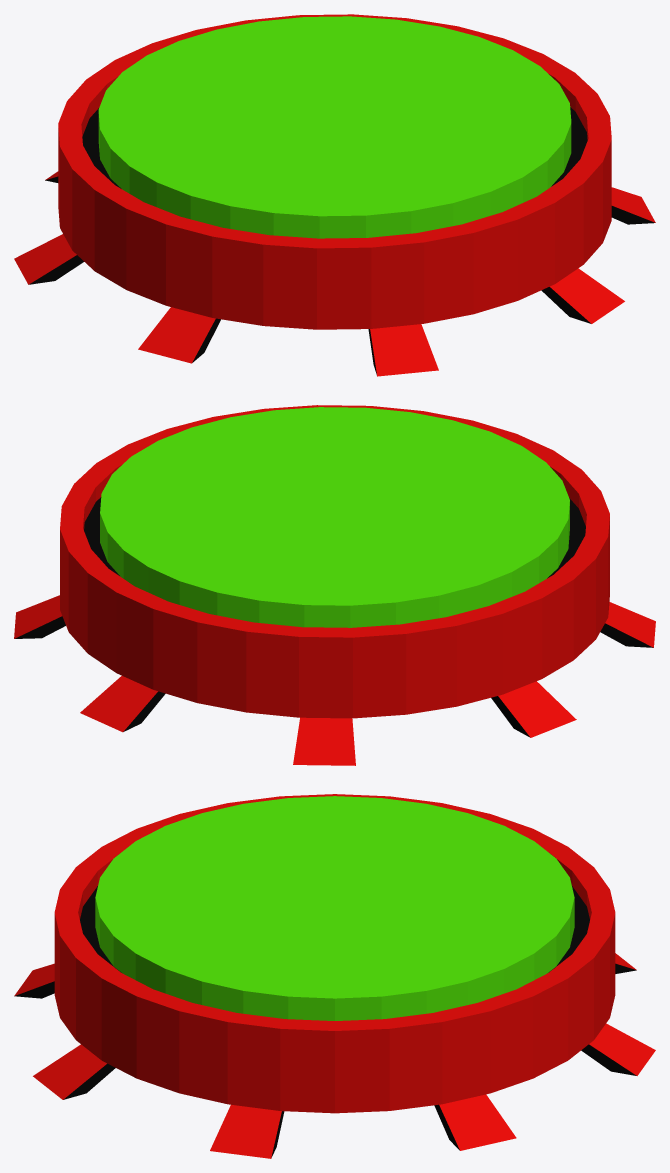
Rendered from JumpPad.fbx.
The picture shows the model from 3 angles, top to bottom: view 1: azimuth 30°, elevation 25°; view 2: azimuth 150°, elevation 25°; view 3: azimuth 270°, elevation 25°; orthographic projection.
Parts seen in each view (by area): view 1: Cylinder; view 2: Cylinder; view 3: Cylinder.
Part boxes in pixels (left/top/right/bottom): Cylinder: left=14, top=14, right=655, bottom=376; Cylinder: left=14, top=405, right=655, bottom=765; Cylinder: left=14, top=794, right=655, bottom=1158.
Bounding box in the file's own units: 229 × 49.55 × 229.
